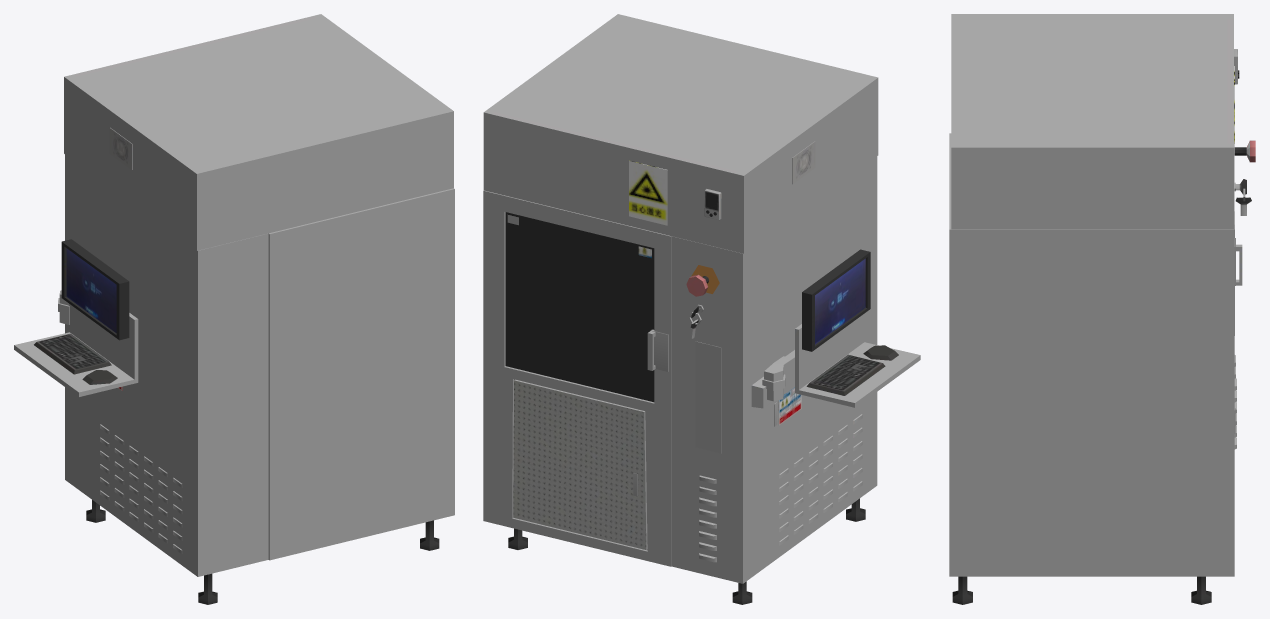
The picture shows the model from 3 angles, left to right: view 1: azimuth 30°, elevation 25°; view 2: azimuth 150°, elevation 25°; view 3: azimuth 270°, elevation 25°; orthographic projection. The views are drawn at different scales.
Parts seen in each view (by area): view 1: lite450_0; view 2: lite450_0; view 3: lite450_0.
Boxes of the visible parts, x1,y1,x2,y2 form: lite450_0: (14,14,454,604); lite450_0: (483,14,920,604); lite450_0: (949,14,1255,604).
Size of the model in its own units: 1.6 by 1.97 by 1.18.
1 material, 1 textured.
